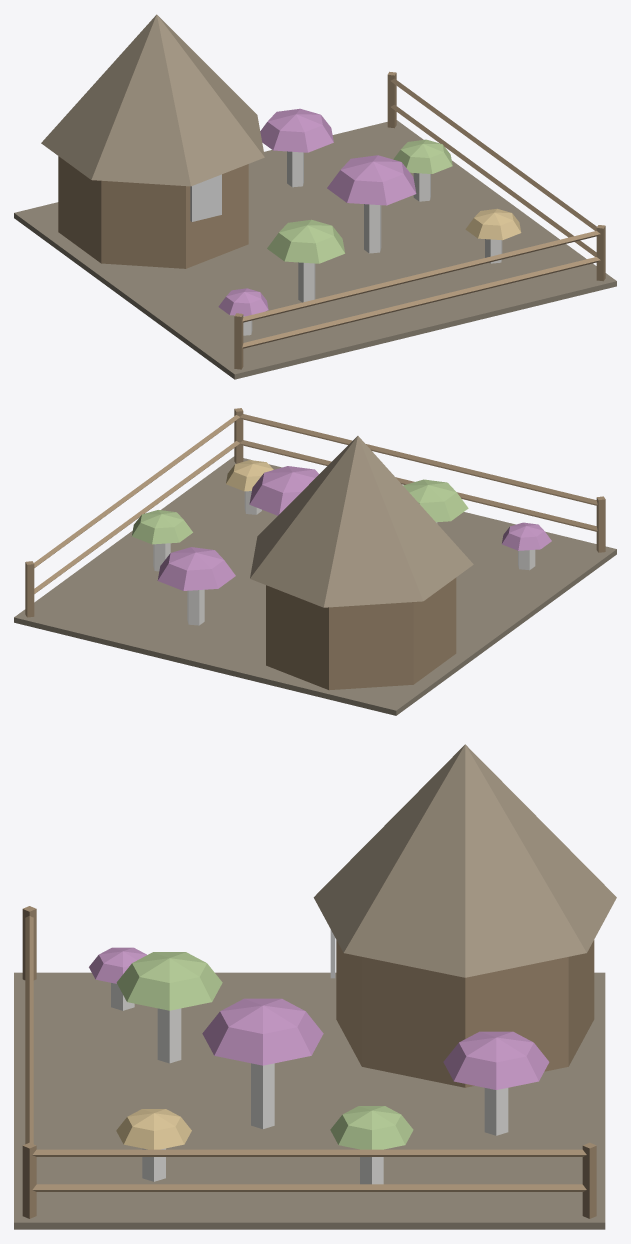
3 views of the same model, one above another, from view 1: azimuth 30°, elevation 25°; view 2: azimuth 150°, elevation 25°; view 3: azimuth 270°, elevation 25° (orthographic). The views are drawn at different scales.
Visible parts, largest first — view 1: body; view 2: body; view 3: body.
Part boxes in pixels (x1,y1,x2,y2): body: (14,14,616,379); body: (14,408,616,715); body: (14,744,616,1229).
Size of the model in its own units: 7.6 by 4.18 by 7.75.
